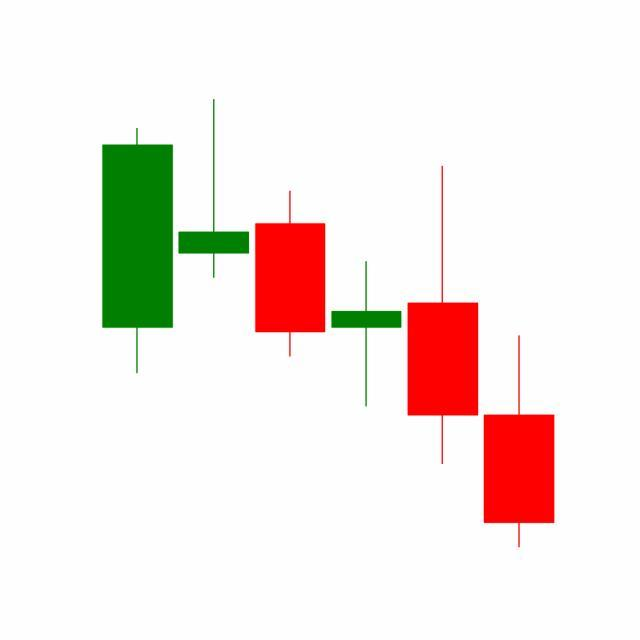Three Outside Up-Down: (326, 161, 555, 548)
